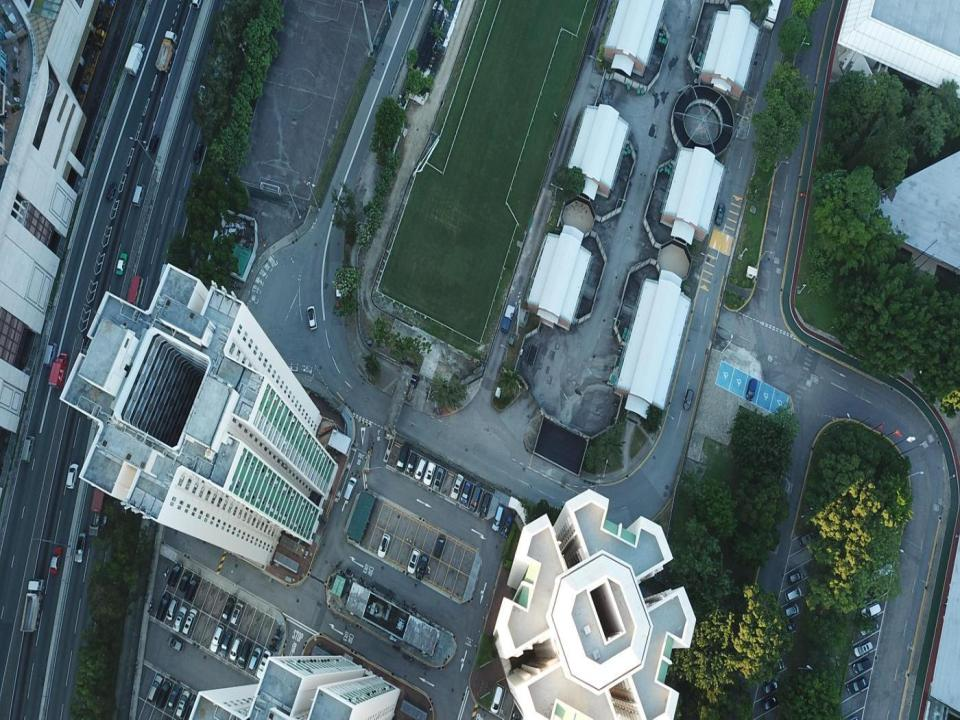car: (256, 651, 272, 678), (846, 676, 868, 695), (172, 606, 187, 633), (210, 626, 225, 653), (176, 691, 190, 719), (183, 609, 198, 635), (450, 473, 464, 500), (49, 546, 62, 575), (168, 563, 183, 587), (75, 532, 86, 564), (158, 678, 171, 705), (222, 595, 236, 619), (407, 549, 420, 574), (415, 555, 428, 580), (377, 534, 390, 558), (423, 461, 436, 485), (67, 463, 78, 489), (220, 631, 231, 657), (168, 684, 181, 706), (461, 480, 472, 505), (186, 696, 199, 717), (166, 598, 178, 620), (168, 636, 184, 652), (116, 253, 127, 276), (715, 203, 726, 226), (746, 378, 757, 401), (852, 660, 871, 673), (307, 306, 317, 330), (415, 459, 426, 480), (105, 183, 116, 203), (179, 572, 190, 592), (336, 282, 344, 307), (193, 142, 202, 164), (501, 518, 512, 536), (788, 571, 803, 584), (150, 135, 159, 153), (684, 390, 693, 408), (198, 86, 204, 108)
truck: (21, 580, 45, 633), (155, 30, 176, 73), (124, 43, 145, 76), (48, 354, 67, 390), (501, 304, 514, 332)
van: (184, 576, 202, 601), (21, 435, 36, 462), (237, 641, 252, 668), (157, 592, 171, 620), (490, 684, 503, 714), (148, 673, 161, 702), (799, 531, 821, 547), (872, 564, 894, 580), (854, 641, 874, 658), (43, 341, 57, 365), (396, 446, 410, 470), (344, 477, 357, 502), (861, 603, 881, 619), (433, 534, 446, 558), (470, 485, 482, 511), (132, 184, 146, 206), (784, 586, 802, 603), (432, 467, 444, 492), (229, 638, 242, 660), (231, 602, 244, 624), (763, 679, 779, 696), (782, 604, 800, 619), (764, 696, 782, 711), (250, 647, 261, 671), (493, 505, 503, 531), (481, 493, 490, 517), (407, 452, 417, 472)
